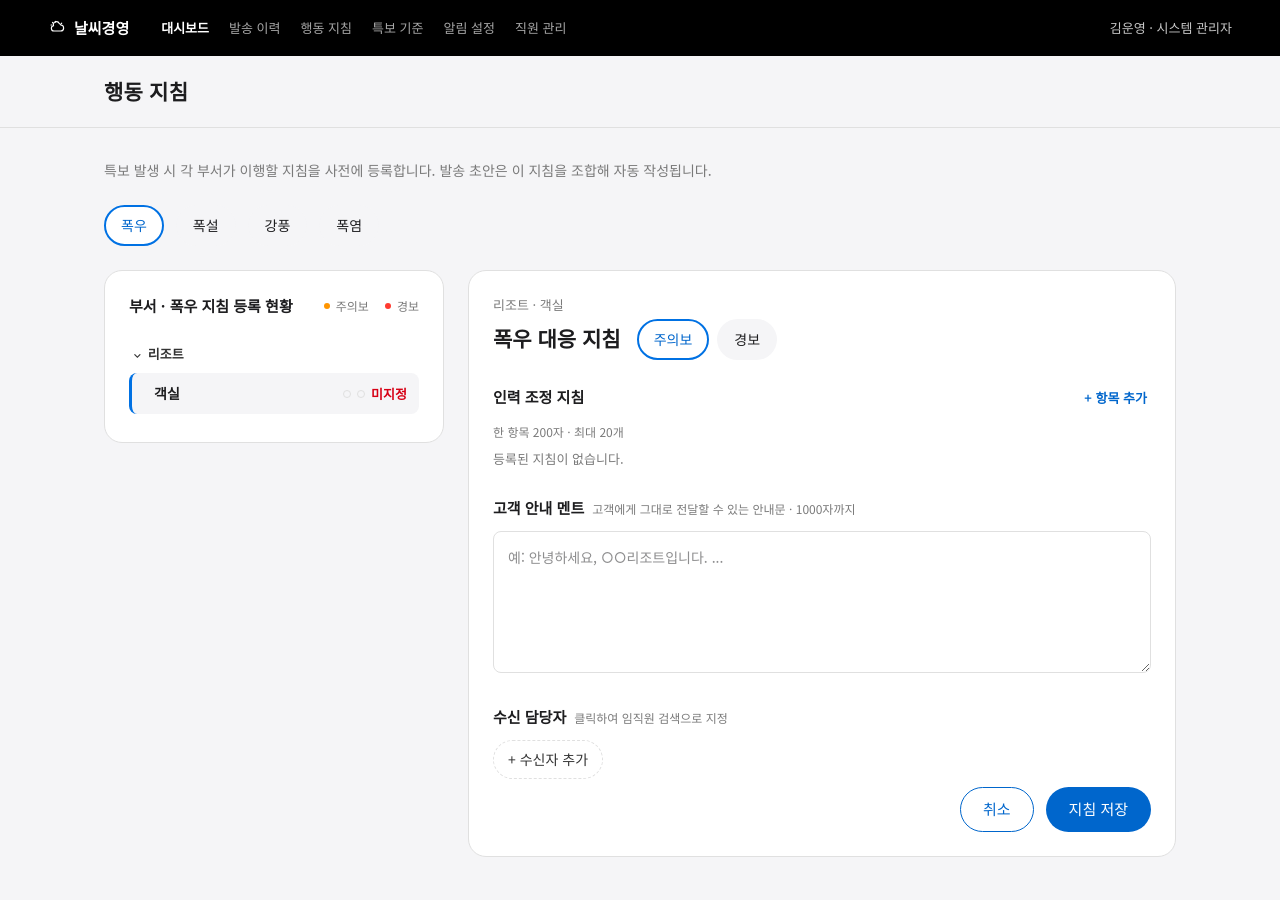
Test case: Guidelines 본문 길이 상한 (W-30) › 부서 수신자의 연락 가능 여부 (검증 §신규-1) › 수신자를 고르는 검색 목록에서도 번호 없음이 보인다
This screenshot has width=1280, height=900.
Expected: the heading "폭우 대응 지침" is shown, x1=493 y1=323 x2=621 y2=355
Click the button "+ 수신자 추가" at (548, 760), box x1=493 y1=740 x2=603 y2=780
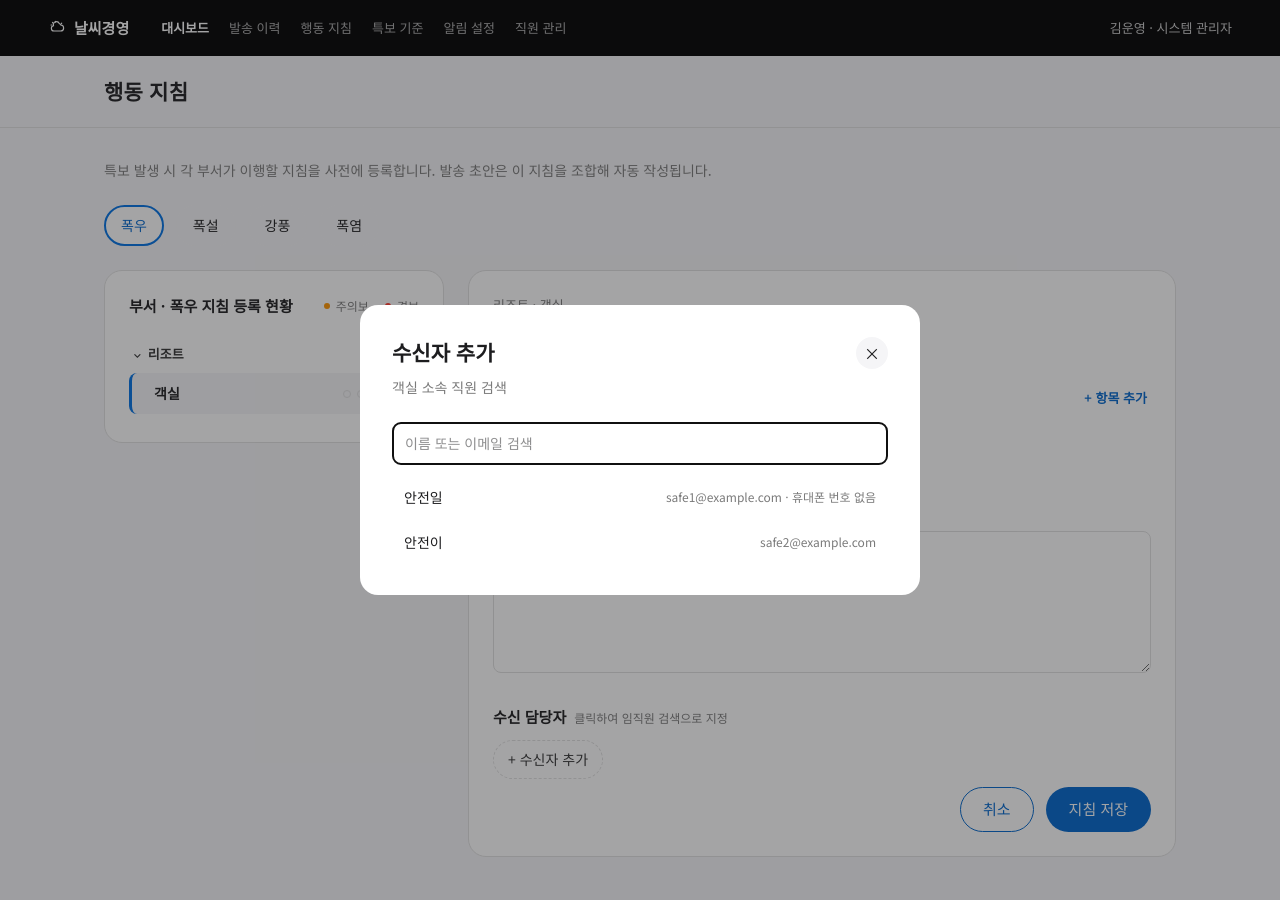
Expected: the text "safe1@example.com · 휴대폰 번호 없음" is shown, x1=666 y1=488 x2=876 y2=506
Expected: the text "safe2@example.com" is shown, x1=760 y1=533 x2=876 y2=551
